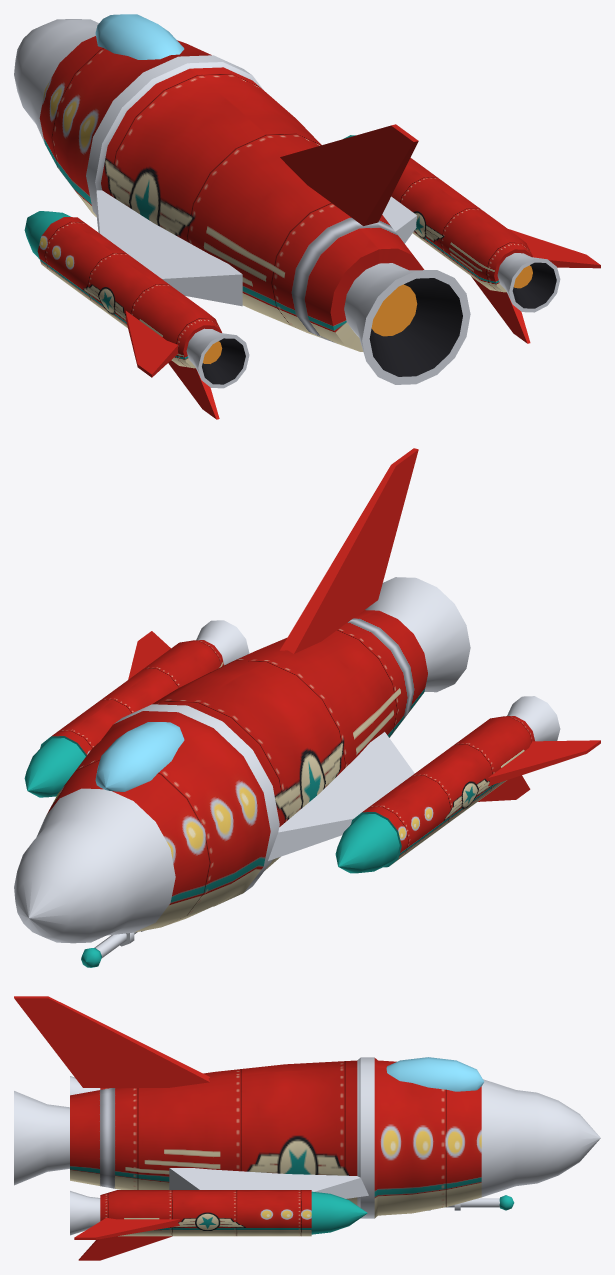
File: meteor.obj
3 views of the same model, one above another, from view 1: azimuth 30°, elevation 25°; view 2: azimuth 150°, elevation 25°; view 3: azimuth 270°, elevation 25° (orthographic). The views are drawn at different scales.
Visible parts, largest first — view 1: hull, booster, bell, pylon, fin_top, booster_bell, booster_fin, canopy, booster_fin_lo; view 2: hull, booster, fin_top, pylon, bell, canopy, booster_fin, booster_bell, booster_fin_lo; view 3: hull, booster, fin_top, bell, pylon, canopy, booster_fin, booster_bell, booster_fin_lo, gun.
Boxes of the visible parts, x1,y1,x2,y2 form: hull: (14,19,424,351); booster: (24,135,532,368); bell: (344,263,470,384); pylon: (96,190,417,306); fin_top: (280,124,418,225); booster_bell: (186,253,560,388); booster_fin: (125,229,600,377); canopy: (95,14,184,59); booster_fin_lo: (168,276,530,419); hull: (14,610,427,943); booster: (24,640,534,873); fin_top: (280,448,418,653); pylon: (268,732,414,860); bell: (365,577,470,692); canopy: (95,722,184,791); booster_fin: (128,631,600,786); booster_bell: (196,620,560,741); booster_fin_lo: (478,775,530,801); hull: (70,1057,600,1218); booster: (100,1088,367,1236); fin_top: (14,996,209,1087); bell: (14,1091,69,1185); pylon: (169,1168,368,1198); canopy: (386,1057,484,1091); booster_fin: (74,1218,179,1239); booster_bell: (70,1076,100,1235); booster_fin_lo: (78,1236,171,1260); gun: (445,1198,499,1207).
Size of the model in its own units: 9.1 by 5.47 by 13.6.
7 materials, 1 textured.
